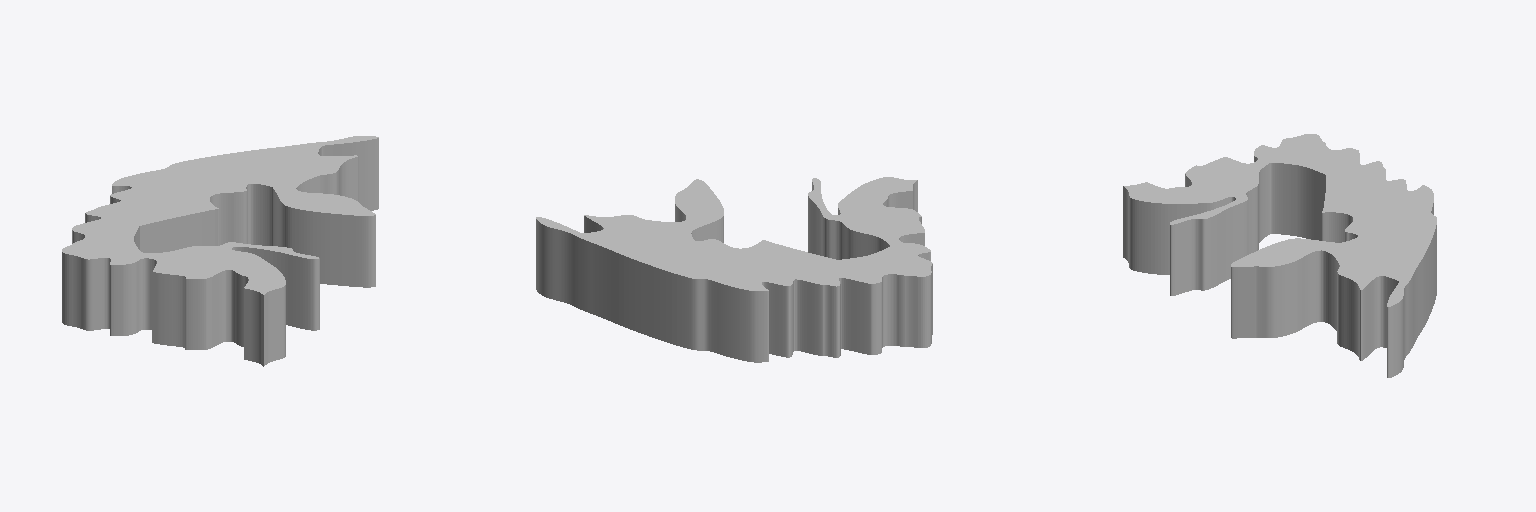
File: Asia_06.obj
3 views of the same model, side by side, from view 1: azimuth 30°, elevation 25°; view 2: azimuth 150°, elevation 25°; view 3: azimuth 270°, elevation 25° (orthographic).
Visible parts, largest first — view 1: Asia_06_path4260; view 2: Asia_06_path4260; view 3: Asia_06_path4260.
Boxes of the visible parts, x1,y1,x2,y2 form: Asia_06_path4260: [62, 136, 378, 366]; Asia_06_path4260: [536, 177, 932, 362]; Asia_06_path4260: [1123, 134, 1436, 377].
Size of the model in its own units: 0.5208 by 0.1 by 0.3991.